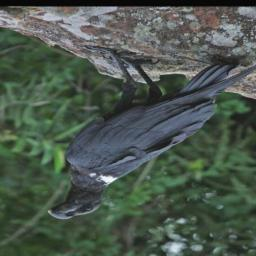Crow: (42, 45, 256, 222)
